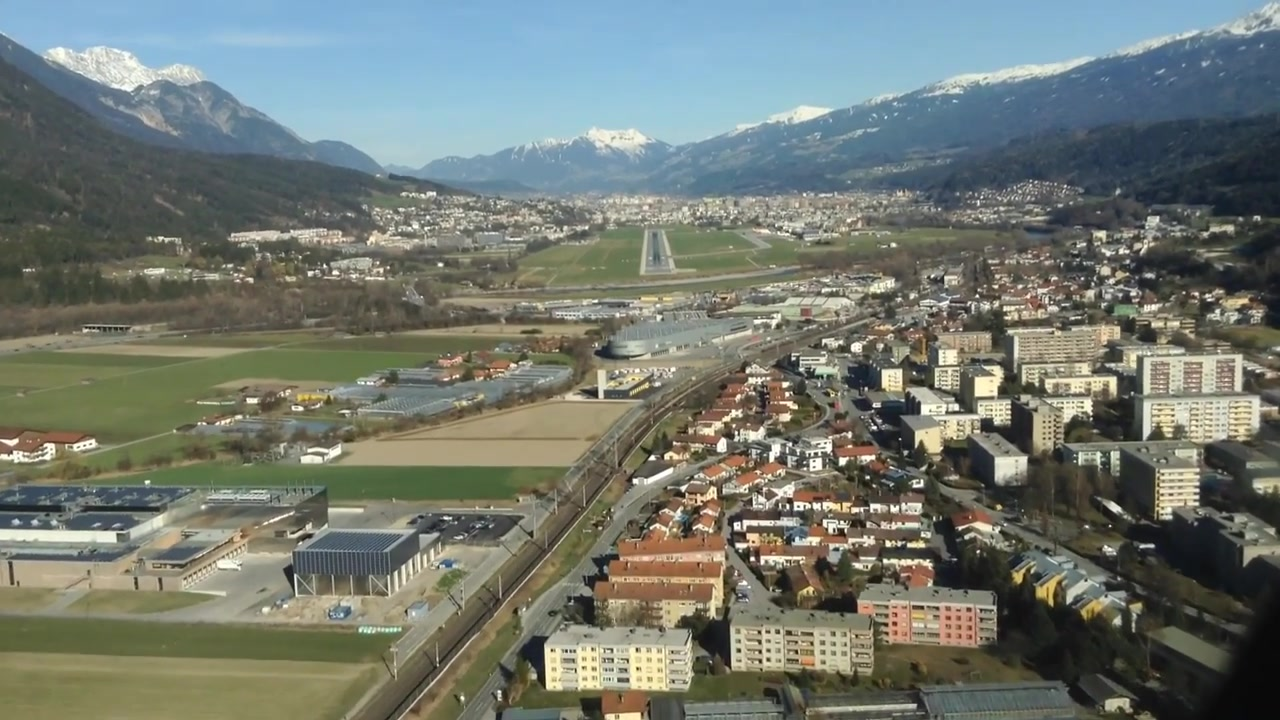runway: (645, 227, 670, 273)
